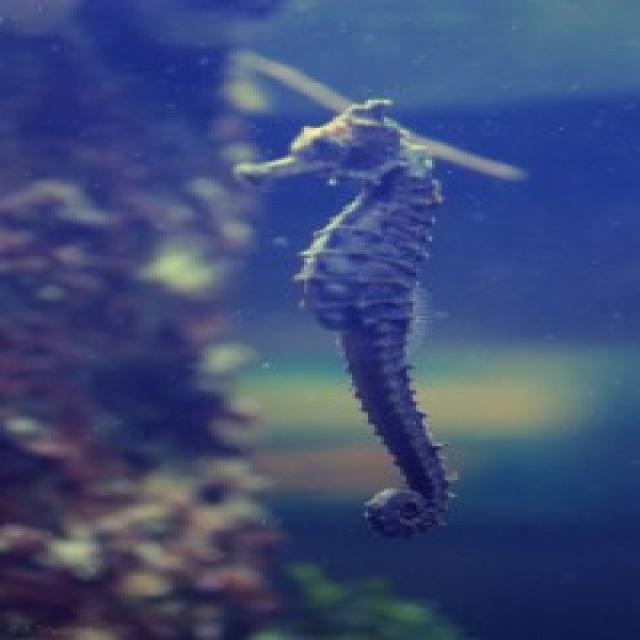Seahorse: (218, 98, 478, 545)
